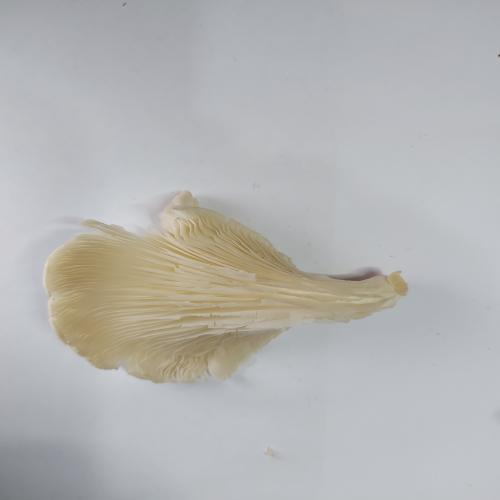Oyster Mushroom: (42, 189, 409, 384)
